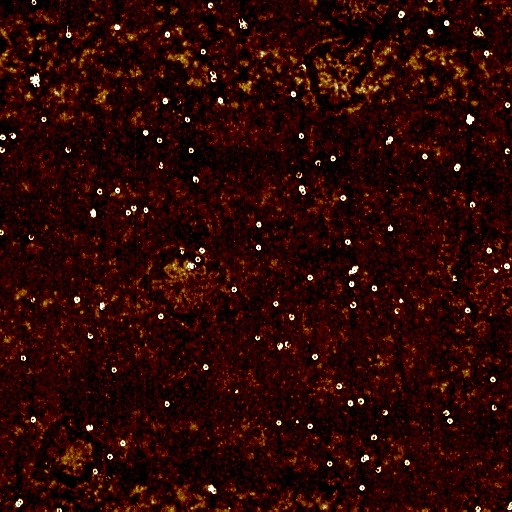-1: (28, 72, 42, 90), (235, 17, 251, 32), (463, 111, 476, 128), (358, 452, 372, 464), (470, 26, 485, 37), (207, 482, 219, 495), (348, 264, 362, 275), (8, 130, 18, 143), (383, 134, 393, 147), (451, 162, 461, 174), (15, 498, 26, 508), (185, 263, 197, 272), (85, 423, 96, 432), (89, 210, 98, 220), (112, 23, 122, 32), (293, 171, 302, 181), (380, 408, 390, 417), (178, 247, 186, 257), (276, 342, 284, 352), (29, 295, 37, 304), (450, 273, 459, 281), (506, 499, 512, 510), (232, 389, 240, 397), (397, 295, 405, 303), (158, 162, 165, 171), (99, 302, 105, 312)
1/4: (298, 64, 307, 71)
2/4: (25, 233, 36, 244), (254, 332, 263, 344), (63, 147, 73, 157), (394, 306, 403, 315), (285, 340, 292, 349), (56, 507, 64, 511)
3/4: (191, 175, 202, 186), (182, 114, 193, 125), (468, 199, 477, 211), (374, 464, 384, 474), (287, 311, 296, 322), (206, 70, 220, 77), (207, 77, 219, 85), (490, 402, 499, 412), (349, 299, 359, 308), (205, 2, 216, 10), (296, 190, 307, 198), (442, 407, 451, 416), (502, 147, 510, 157), (357, 396, 365, 406), (20, 354, 28, 363), (86, 332, 95, 340), (312, 160, 322, 167), (334, 382, 344, 389), (91, 469, 99, 475), (474, 504, 482, 510), (1, 229, 5, 238), (1, 149, 5, 156)
4/4: (394, 9, 407, 20), (253, 219, 263, 231), (326, 154, 338, 164), (337, 193, 348, 203), (501, 261, 512, 271), (305, 271, 315, 282), (419, 150, 428, 162), (106, 452, 116, 462), (155, 137, 165, 147), (162, 31, 172, 41), (296, 131, 306, 141), (424, 27, 434, 37), (484, 246, 494, 256), (310, 351, 321, 360), (141, 129, 150, 139), (187, 148, 196, 158), (501, 100, 511, 109), (71, 296, 82, 304), (342, 239, 353, 247), (119, 439, 128, 448), (123, 210, 132, 219), (142, 207, 151, 216), (231, 285, 240, 294), (161, 98, 170, 107), (216, 96, 225, 105), (64, 32, 73, 41), (288, 90, 297, 99), (198, 48, 208, 56), (29, 1, 39, 9), (295, 183, 305, 191), (347, 279, 357, 287), (164, 400, 172, 409), (202, 363, 211, 371), (113, 188, 121, 197), (198, 247, 206, 256), (40, 116, 48, 125), (254, 244, 262, 253), (441, 19, 449, 28), (480, 50, 489, 58), (370, 283, 379, 291), (326, 459, 334, 468), (346, 398, 354, 407), (464, 306, 474, 313), (272, 298, 279, 308), (369, 433, 379, 440), (357, 484, 367, 491), (158, 312, 166, 320), (490, 375, 498, 383), (193, 257, 202, 264), (305, 423, 314, 430), (1, 133, 6, 145), (95, 190, 103, 197), (386, 224, 393, 232), (403, 458, 411, 465), (275, 419, 283, 426), (446, 417, 454, 424), (111, 367, 118, 374), (30, 417, 37, 423)
